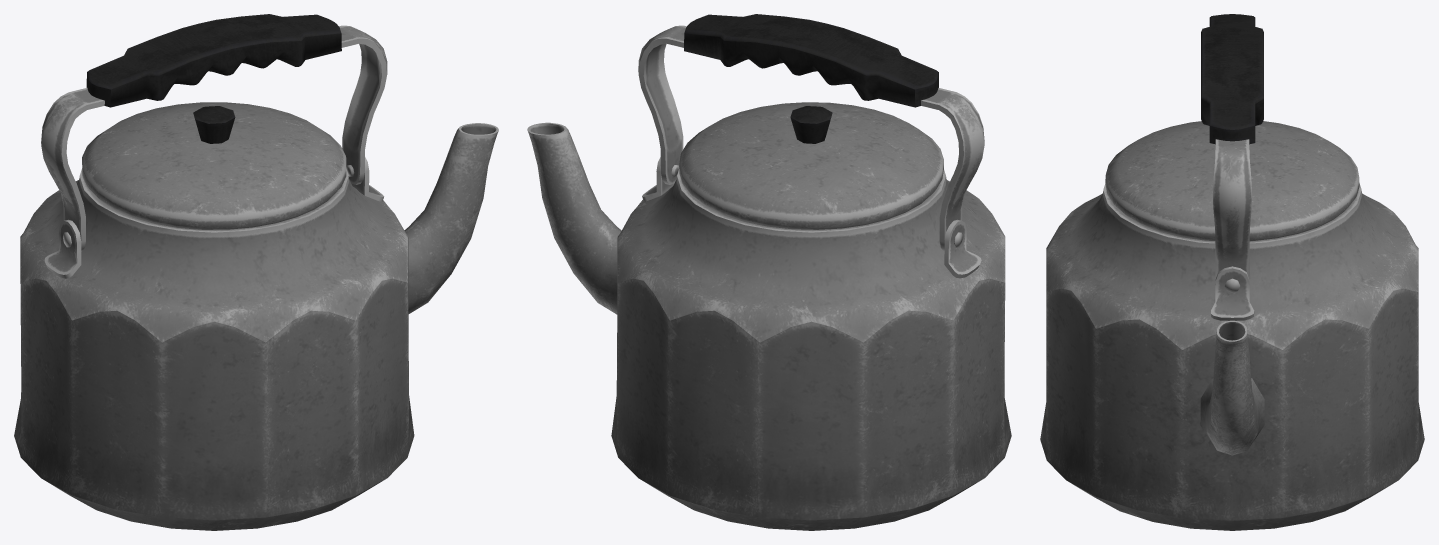
File: dark_teapot.glb
3 renders of one model, left to right at view 1: azimuth 30°, elevation 25°; view 2: azimuth 150°, elevation 25°; view 3: azimuth 270°, elevation 25°, orthographic. The views are drawn at different scales.
Parts seen in each view (by area): view 1: Hull_low, Cap_low, Handle_low, HandleMountHandle_low, HandleMount_low; view 2: Hull_low, Cap_low, Handle_low, HandleMountHandle_low, HandleMount_low; view 3: Hull_low, Cap_low, Handle_low, HandleMountHandle_low, HandleMount_low.
Boxes of the visible parts, bbox=[...] form: Hull_low: bbox=[14, 123, 498, 530]; Cap_low: bbox=[82, 102, 346, 229]; Handle_low: bbox=[86, 14, 341, 107]; HandleMountHandle_low: bbox=[41, 25, 387, 251]; HandleMount_low: bbox=[44, 157, 384, 278]; Hull_low: bbox=[527, 122, 1011, 530]; Cap_low: bbox=[679, 102, 943, 229]; Handle_low: bbox=[684, 14, 938, 107]; HandleMountHandle_low: bbox=[638, 25, 984, 251]; HandleMount_low: bbox=[642, 157, 981, 278]; Hull_low: bbox=[1040, 184, 1424, 530]; Cap_low: bbox=[1105, 121, 1359, 241]; Handle_low: bbox=[1201, 14, 1263, 144]; HandleMountHandle_low: bbox=[1213, 139, 1251, 278]; HandleMount_low: bbox=[1211, 266, 1254, 320].
Size of the model in its own units: 3.38 by 3.02 by 2.57.
1 material, 1 textured.
